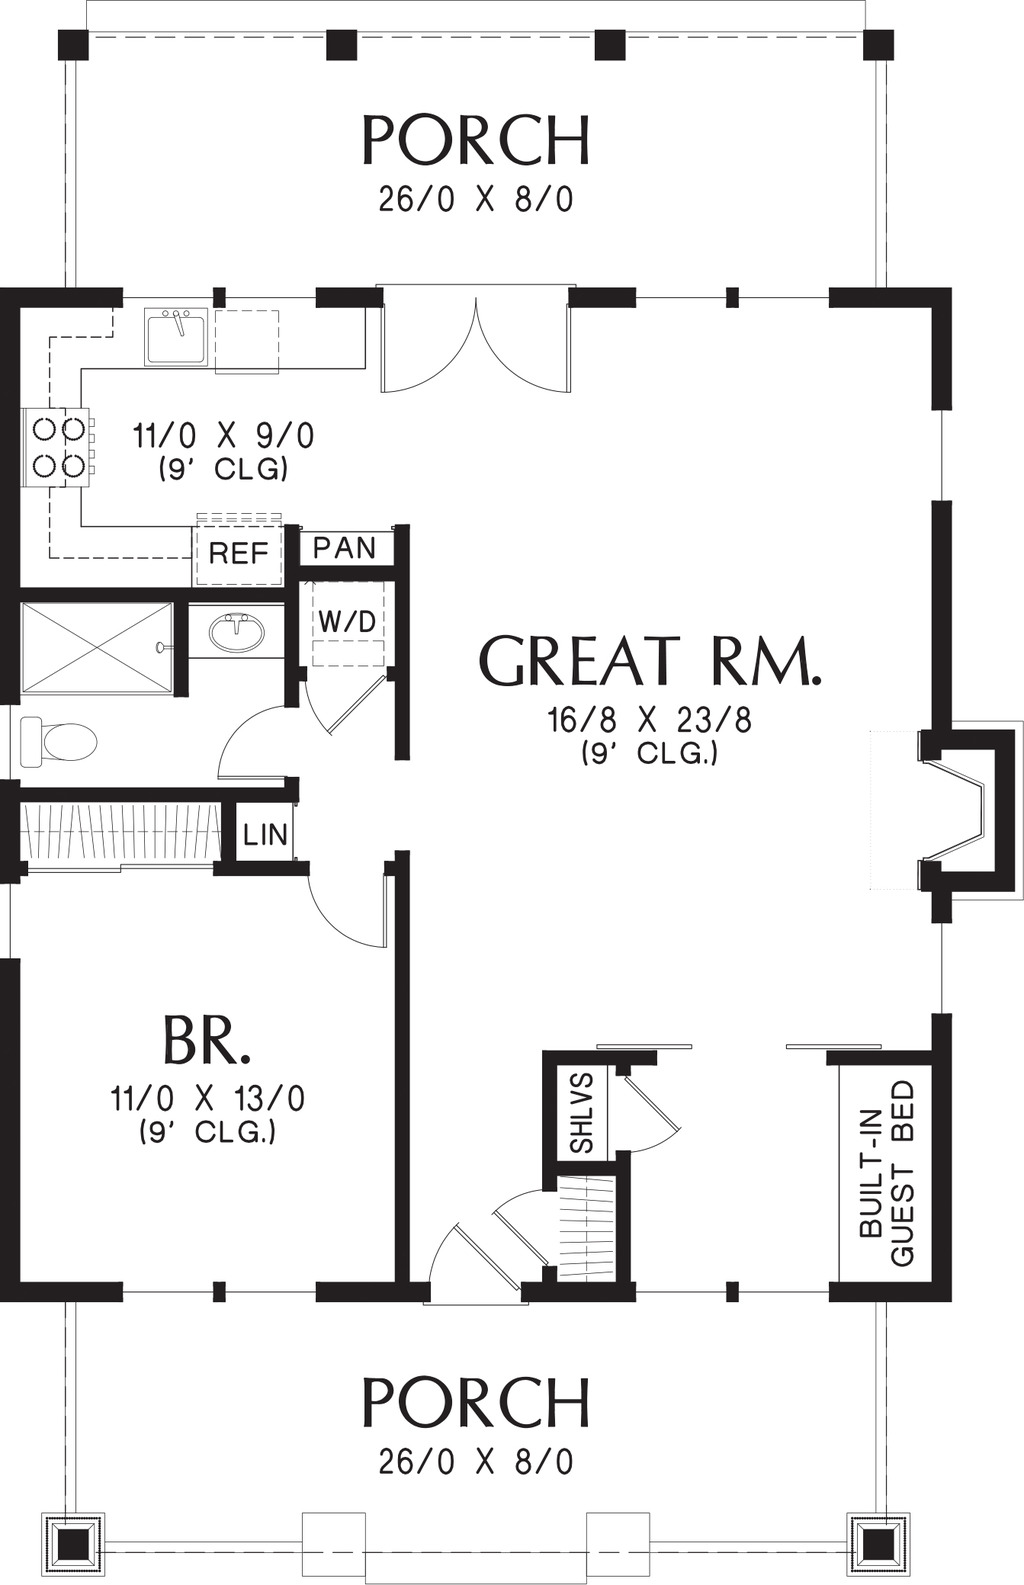door: (381, 288, 573, 405), (303, 854, 415, 963), (595, 1057, 688, 1154), (417, 1225, 522, 1308), (210, 698, 294, 786), (498, 1186, 576, 1278), (300, 657, 386, 735)
large_sink: (10, 704, 96, 784)
sink: (139, 288, 225, 378)
small_sink: (193, 605, 283, 664)
window: (123, 1266, 317, 1310), (637, 278, 832, 313), (637, 1274, 828, 1308)
